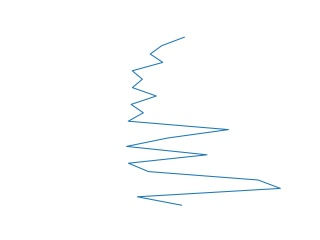crevasseRiverBedLagDeposit: (122, 34, 285, 210)
